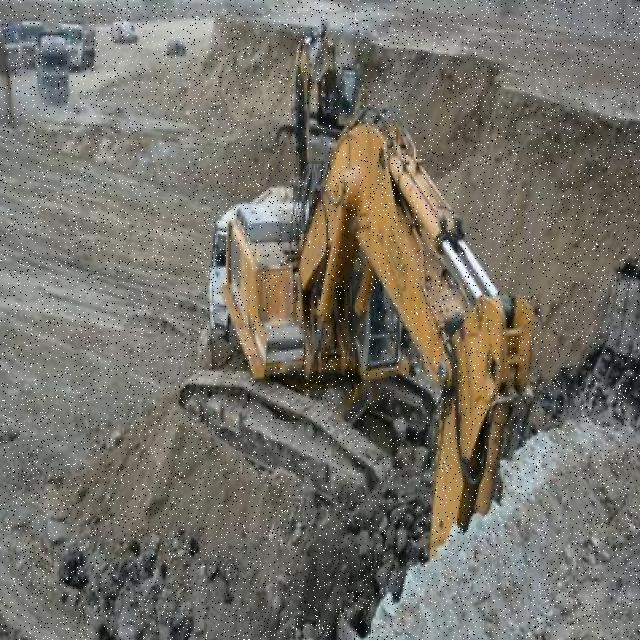Dump Truck: (210, 183, 312, 344), (36, 34, 70, 102), (60, 18, 96, 74), (0, 21, 19, 75), (22, 14, 40, 66)
Excavator: (173, 98, 539, 577), (275, 14, 367, 164)
